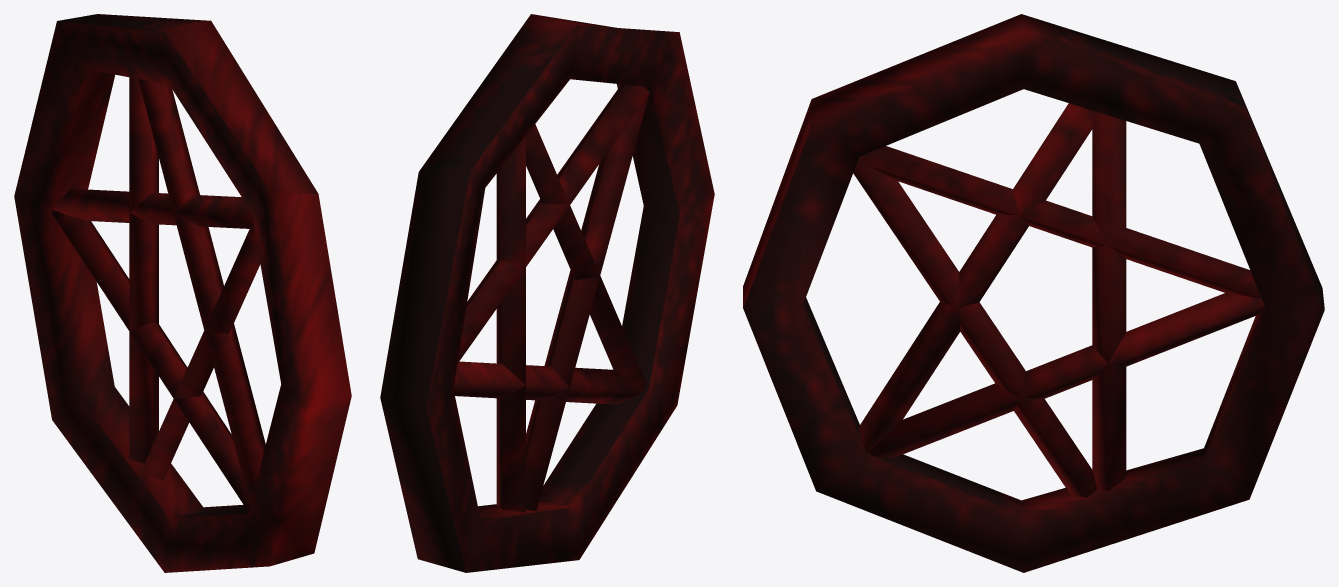
The model's file is invulner.gltf.
3 renders of one model, left to right at view 1: azimuth 30°, elevation 25°; view 2: azimuth 150°, elevation 25°; view 3: azimuth 270°, elevation 25°, orthographic.
Visible parts, largest first — view 1: mesh0_noesis_meshnode_0000; view 2: mesh0_noesis_meshnode_0000; view 3: mesh0_noesis_meshnode_0000.
Part boxes in pixels (bbox=[...]): mesh0_noesis_meshnode_0000: bbox=[14, 14, 351, 572]; mesh0_noesis_meshnode_0000: bbox=[380, 14, 714, 572]; mesh0_noesis_meshnode_0000: bbox=[743, 14, 1324, 572].
Bounding box in the file's own units: 3.5 × 37.31 × 36.62.
1 material, 1 textured.
